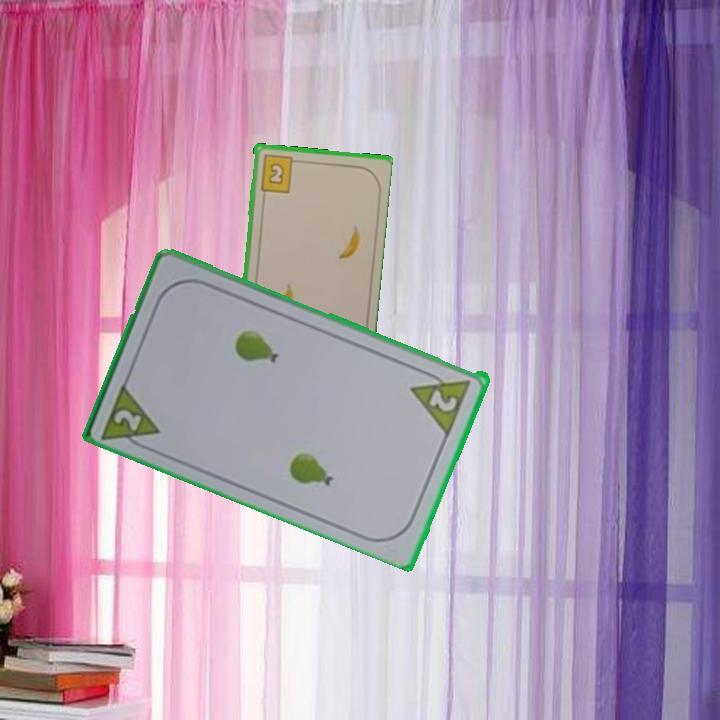2b: (257, 151, 301, 195)
2p: (98, 377, 164, 454), (407, 364, 474, 436)
